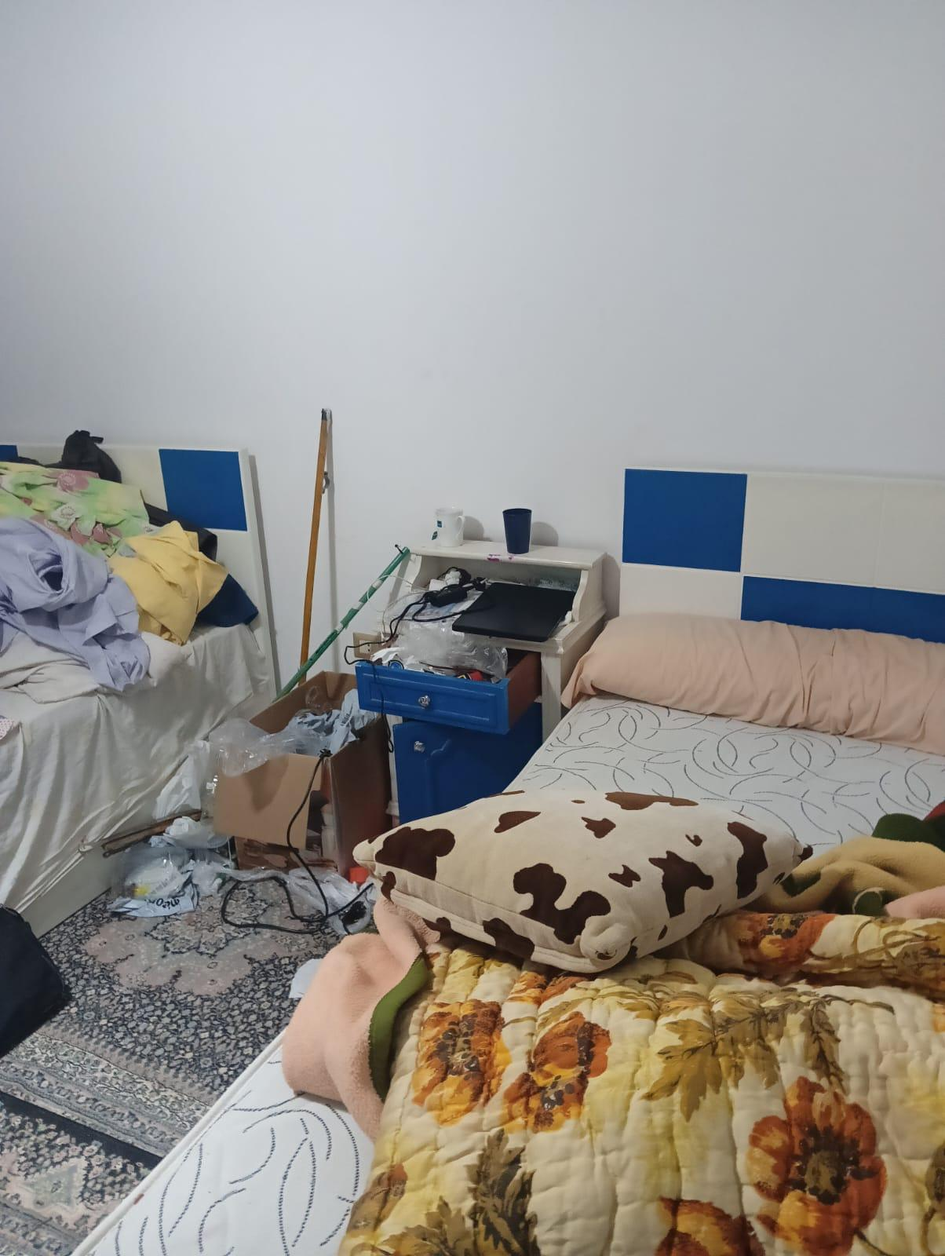cup: (432, 508, 464, 547), (503, 508, 530, 553)
